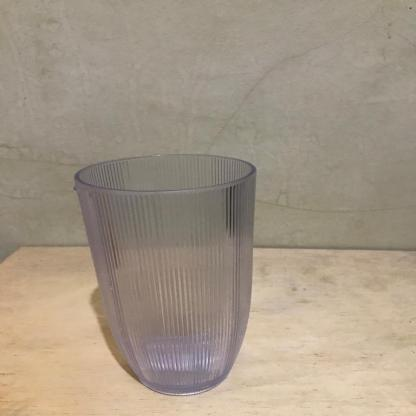glass: (64, 154, 281, 404)
